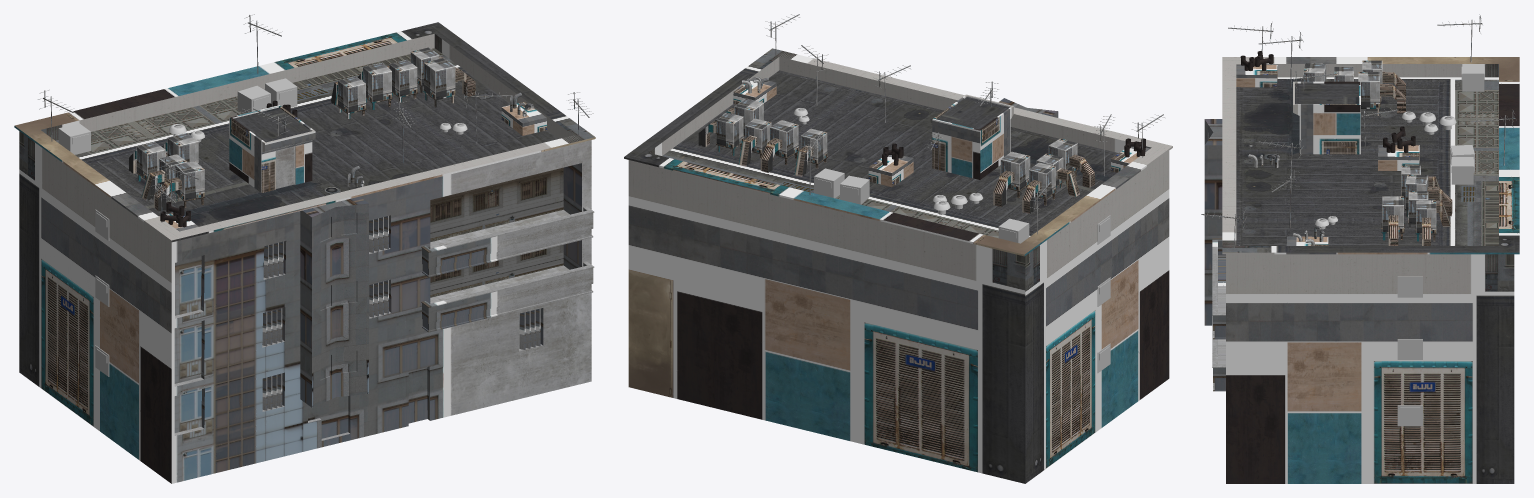
The model's file is Building_03.obj.
3 renders of one model, left to right at view 1: azimuth 30°, elevation 25°; view 2: azimuth 150°, elevation 25°; view 3: azimuth 270°, elevation 25°, orthographic. The views are drawn at different scales.
Visible parts, largest first — view 1: Rectangle02, Rectangle03, ChamferBox80, Box273, Box270, ChamferBox86, ChamferBox65, ChamferBox89, ChamferBox84, Box272, ChamferBox68, ChamferBox70 (+2 smaller); view 2: Rectangle02, Rectangle03, Box265, Box273, ChamferBox82, ChamferBox70, ChamferBox86, Box269, Box263, Box270, ChamferBox68, ChamferBox89 (+4 smaller); view 3: Rectangle02, Rectangle03, Box268, Box265, Box271, ChamferBox70, ChamferBox80, Box263, Box272, ChamferBox82, ChamferBox71, ChamferBox86 (+4 smaller).
Part boxes in pixels (left/top/right/bottom): Rectangle02: left=14, top=22, right=595, bottom=483; Rectangle03: left=229, top=105, right=315, bottom=192; ChamferBox80: left=424, top=58, right=455, bottom=99; Box273: left=95, top=209, right=109, bottom=376; Box270: left=501, top=102, right=546, bottom=135; ChamferBox86: left=363, top=62, right=391, bottom=102; ChamferBox65: left=175, top=161, right=204, bottom=200; ChamferBox89: left=338, top=76, right=365, bottom=112; ChamferBox84: left=389, top=60, right=417, bottom=96; Box272: left=58, top=123, right=90, bottom=154; ChamferBox68: left=136, top=142, right=165, bottom=179; ChamferBox70: left=167, top=133, right=198, bottom=163; Rectangle02: left=624, top=48, right=1172, bottom=483; Rectangle03: left=932, top=94, right=1013, bottom=179; Box265: left=868, top=155, right=913, bottom=187; Box273: left=1097, top=215, right=1110, bottom=372; ChamferBox82: left=716, top=112, right=743, bottom=148; ChamferBox70: left=1000, top=151, right=1030, bottom=190; ChamferBox86: left=769, top=120, right=798, bottom=157; Box269: left=840, top=175, right=869, bottom=204; Box263: left=814, top=168, right=844, bottom=198; Box270: left=733, top=77, right=776, bottom=104; ChamferBox68: left=1029, top=162, right=1055, bottom=198; ChamferBox89: left=801, top=128, right=827, bottom=163; Rectangle02: left=1204, top=57, right=1519, bottom=483; Rectangle03: left=1293, top=81, right=1360, bottom=154; Box268: left=1397, top=276, right=1422, bottom=426; Box265: left=1378, top=145, right=1419, bottom=170; Box271: left=1236, top=65, right=1277, bottom=87; ChamferBox70: left=1358, top=72, right=1379, bottom=107; ChamferBox80: left=1382, top=196, right=1403, bottom=232; Box263: left=1451, top=157, right=1474, bottom=184; Box272: left=1461, top=64, right=1484, bottom=91; ChamferBox82: left=1416, top=200, right=1436, bottom=233; ChamferBox71: left=1361, top=84, right=1405, bottom=115; ChamferBox86: left=1405, top=174, right=1428, bottom=209.
Size of the model in its own units: 2267 by 1557 by 1559.
